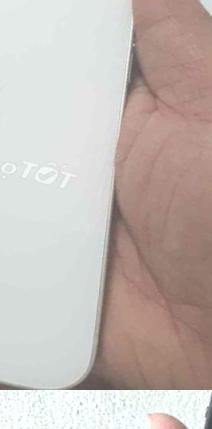scratch: (190, 390, 212, 429)
